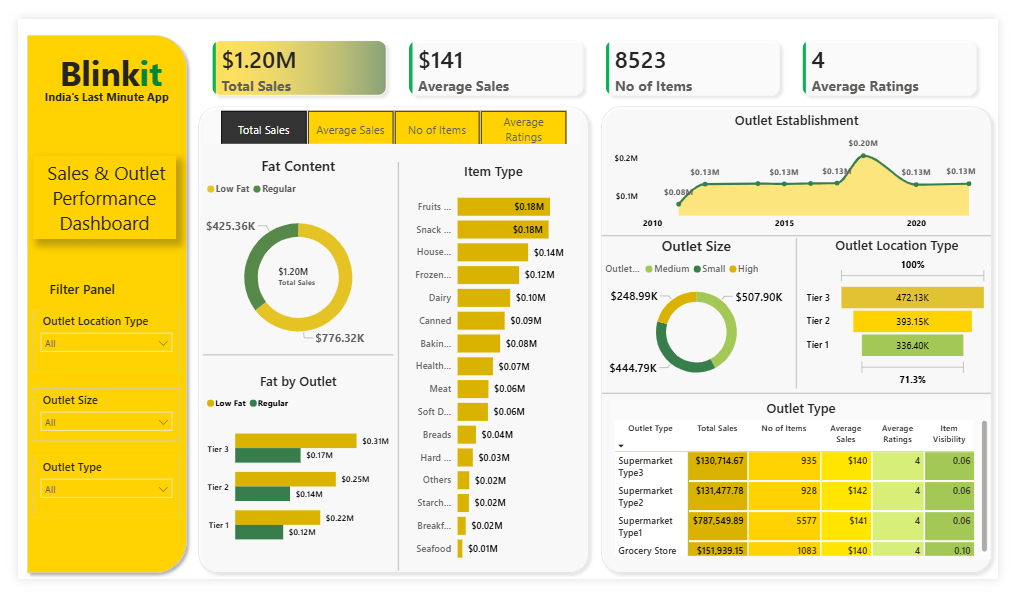

The page's visual inventory and layout, read from the dashboard file:
{"tool":"powerbi","page":{"name":"Page 1","canvas":[1400,800],"ordinal":0},"visuals":[{"type":"shape","box":[3.8,13.9,245.6,786.1],"z":0},{"type":"textbox","box":[39.4,38,185.5,77.3],"z":1000},{"type":"textbox","box":[28.1,95.6,196.8,38],"z":2000},{"type":"cardVisual","fields":{"Data":["BlinkIT Grocery Data.Total Sales","BlinkIT Grocery Data.Average Sales","BlinkIT Grocery Data.No of Items","BlinkIT Grocery Data.Average Ratings"]},"box":[248.1,1.3,1151.9,138],"z":3000},{"type":"shape","box":[248.1,115.2,575.9,684.8],"z":4000},{"type":"donutChart","title":"Fat Content","fields":{"Y":["BlinkIT Grocery Data.Total Sales"],"Category":["BlinkIT Grocery Data.Item Fat Content"]},"box":[264.6,196.2,272.2,291.1],"z":5000},{"type":"slicer","fields":{"Values":["Metrics.Metrics"]},"box":[264.6,124.1,543,54.4],"z":6000},{"type":"cardVisual","fields":{"Data":["BlinkIT Grocery Data.Total Sales"]},"box":[343,334.2,115.2,65.8],"z":7000},{"type":"clusteredBarChart","title":"Fat by Outlet","fields":{"Y":["BlinkIT Grocery Data.Total Sales"],"Category":["BlinkIT Grocery Data.Outlet Location Type"],"Series":["BlinkIT Grocery Data.Item Fat Content"]},"box":[264.6,503.8,272.2,268.4],"z":8000},{"type":"shape","box":[264.6,470.9,272.2,16.5],"z":9000},{"type":"shape","box":[536.7,203.8,12.7,583.5],"z":10000},{"type":"barChart","title":"Item Type","fields":{"Y":["BlinkIT Grocery Data.Total Sales"],"Category":["BlinkIT Grocery Data.Item Type"]},"box":[549.4,203.8,258.2,583.5],"z":11000},{"type":"shape","box":[824.1,115.2,575.9,684.8],"z":12000},{"type":"lineChart","title":"Outlet Establishment ","fields":{"Category":["BlinkIT Grocery Data.Outlet Establishment Year"],"Y":["BlinkIT Grocery Data.Total Sales"]},"box":[846.8,131.6,530.4,178.5],"z":13000},{"type":"shape","box":[834.2,305.1,555.7,7.6],"z":14000},{"type":"shape","box":[1094.9,312.7,35.4,215.2],"z":15000},{"type":"shape","box":[834.2,527.8,555.7,15.2],"z":16000},{"type":"donutChart","title":"Outlet Size","fields":{"Y":["BlinkIT Grocery Data.Total Sales"],"Category":["BlinkIT Grocery Data.Outlet Size"]},"box":[834.2,310.1,269.6,219],"z":17000},{"type":"funnel","title":"Outlet Location Type","fields":{"Y":["Sum(BlinkIT Grocery Data.Sales)"],"Category":["BlinkIT Grocery Data.Outlet Location Type"]},"box":[1121.5,310.1,268.4,219],"z":18000},{"type":"pivotTable","title":"Outlet Type ","fields":{"Values":["BlinkIT Grocery Data.Total Sales","BlinkIT Grocery Data.No of Items","BlinkIT Grocery Data.Average Sales","BlinkIT Grocery Data.Average Ratings","Avg(BlinkIT Grocery Data.Item Visibility)"],"Rows":["BlinkIT Grocery Data.Outlet Type"]},"box":[846.8,543,543,229.1],"z":19000},{"type":"slicer","fields":{"Values":["BlinkIT Grocery Data.Outlet Location Type"]},"box":[21.4,414.3,210,90],"z":20000},{"type":"slicer","fields":{"Values":["BlinkIT Grocery Data.Outlet Size"]},"box":[21.4,527.1,210,75.7],"z":21000},{"type":"slicer","fields":{"Values":["BlinkIT Grocery Data.Outlet Type"]},"box":[21.4,622.9,210,90],"z":22000},{"type":"textbox","box":[40,367.1,154.3,40],"z":22001},{"type":"textbox","box":[21.4,195.7,204.3,118.6],"z":22002}]}

Visuals, with their boxes in screenshot pixels (x1, y1, x2, y2), scaled from the page's 1400x800 canvas onto the 1023x601 screenshot:
shape: select_region(3, 10, 182, 600)
textbox: select_region(29, 29, 164, 87)
textbox: select_region(21, 72, 164, 100)
cardVisual - BlinkIT Grocery Data.Total Sales x BlinkIT Grocery Data.Average Sales: select_region(181, 1, 1022, 105)
shape: select_region(181, 87, 602, 600)
"Fat Content" donutChart: select_region(193, 147, 392, 366)
slicer - Metrics.Metrics: select_region(193, 93, 590, 134)
cardVisual - BlinkIT Grocery Data.Total Sales: select_region(251, 251, 335, 300)
"Fat by Outlet" clusteredBarChart: select_region(193, 378, 392, 580)
shape: select_region(193, 354, 392, 366)
shape: select_region(392, 153, 401, 591)
"Item Type" barChart: select_region(401, 153, 590, 591)
shape: select_region(602, 87, 1022, 600)
"Outlet Establishment " lineChart: select_region(619, 99, 1006, 233)
shape: select_region(610, 229, 1016, 235)
shape: select_region(800, 235, 826, 397)
shape: select_region(610, 397, 1016, 408)
"Outlet Size" donutChart: select_region(610, 233, 807, 397)
"Outlet Location Type" funnel: select_region(819, 233, 1016, 397)
"Outlet Type " pivotTable: select_region(619, 408, 1016, 580)
slicer - BlinkIT Grocery Data.Outlet Location Type: select_region(16, 311, 169, 379)
slicer - BlinkIT Grocery Data.Outlet Size: select_region(16, 396, 169, 453)
slicer - BlinkIT Grocery Data.Outlet Type: select_region(16, 468, 169, 536)
textbox: select_region(29, 276, 142, 306)
textbox: select_region(16, 147, 165, 236)
